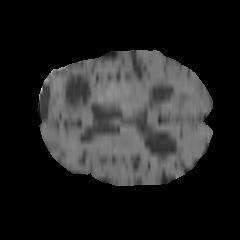glioma: (57, 68, 113, 122)
